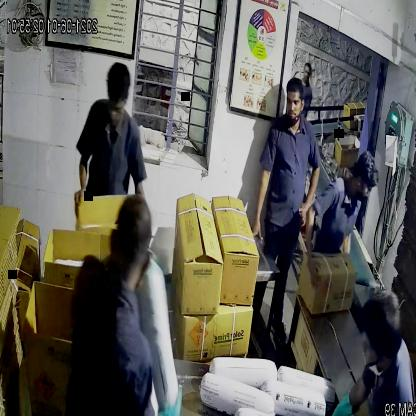no_goggles: (283, 88, 311, 115)
